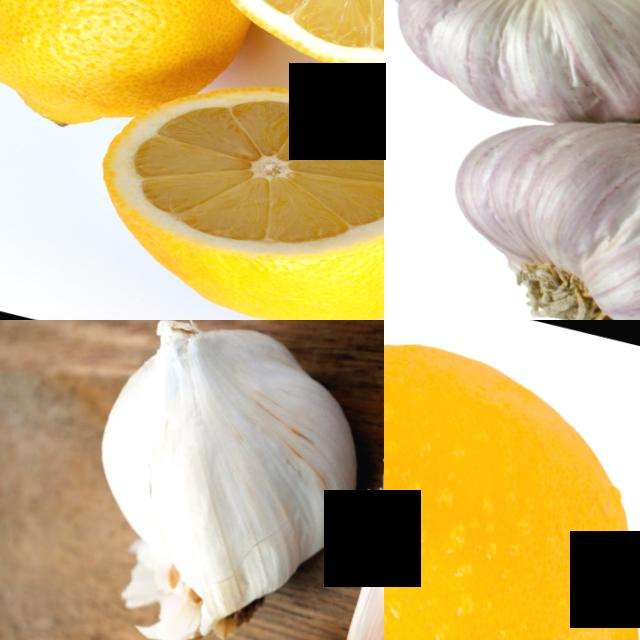garlic: (51, 320, 384, 638), (406, 111, 640, 320), (384, 0, 640, 150), (307, 467, 384, 640)
lemon: (384, 320, 640, 640), (68, 83, 384, 320), (0, 0, 214, 155)
